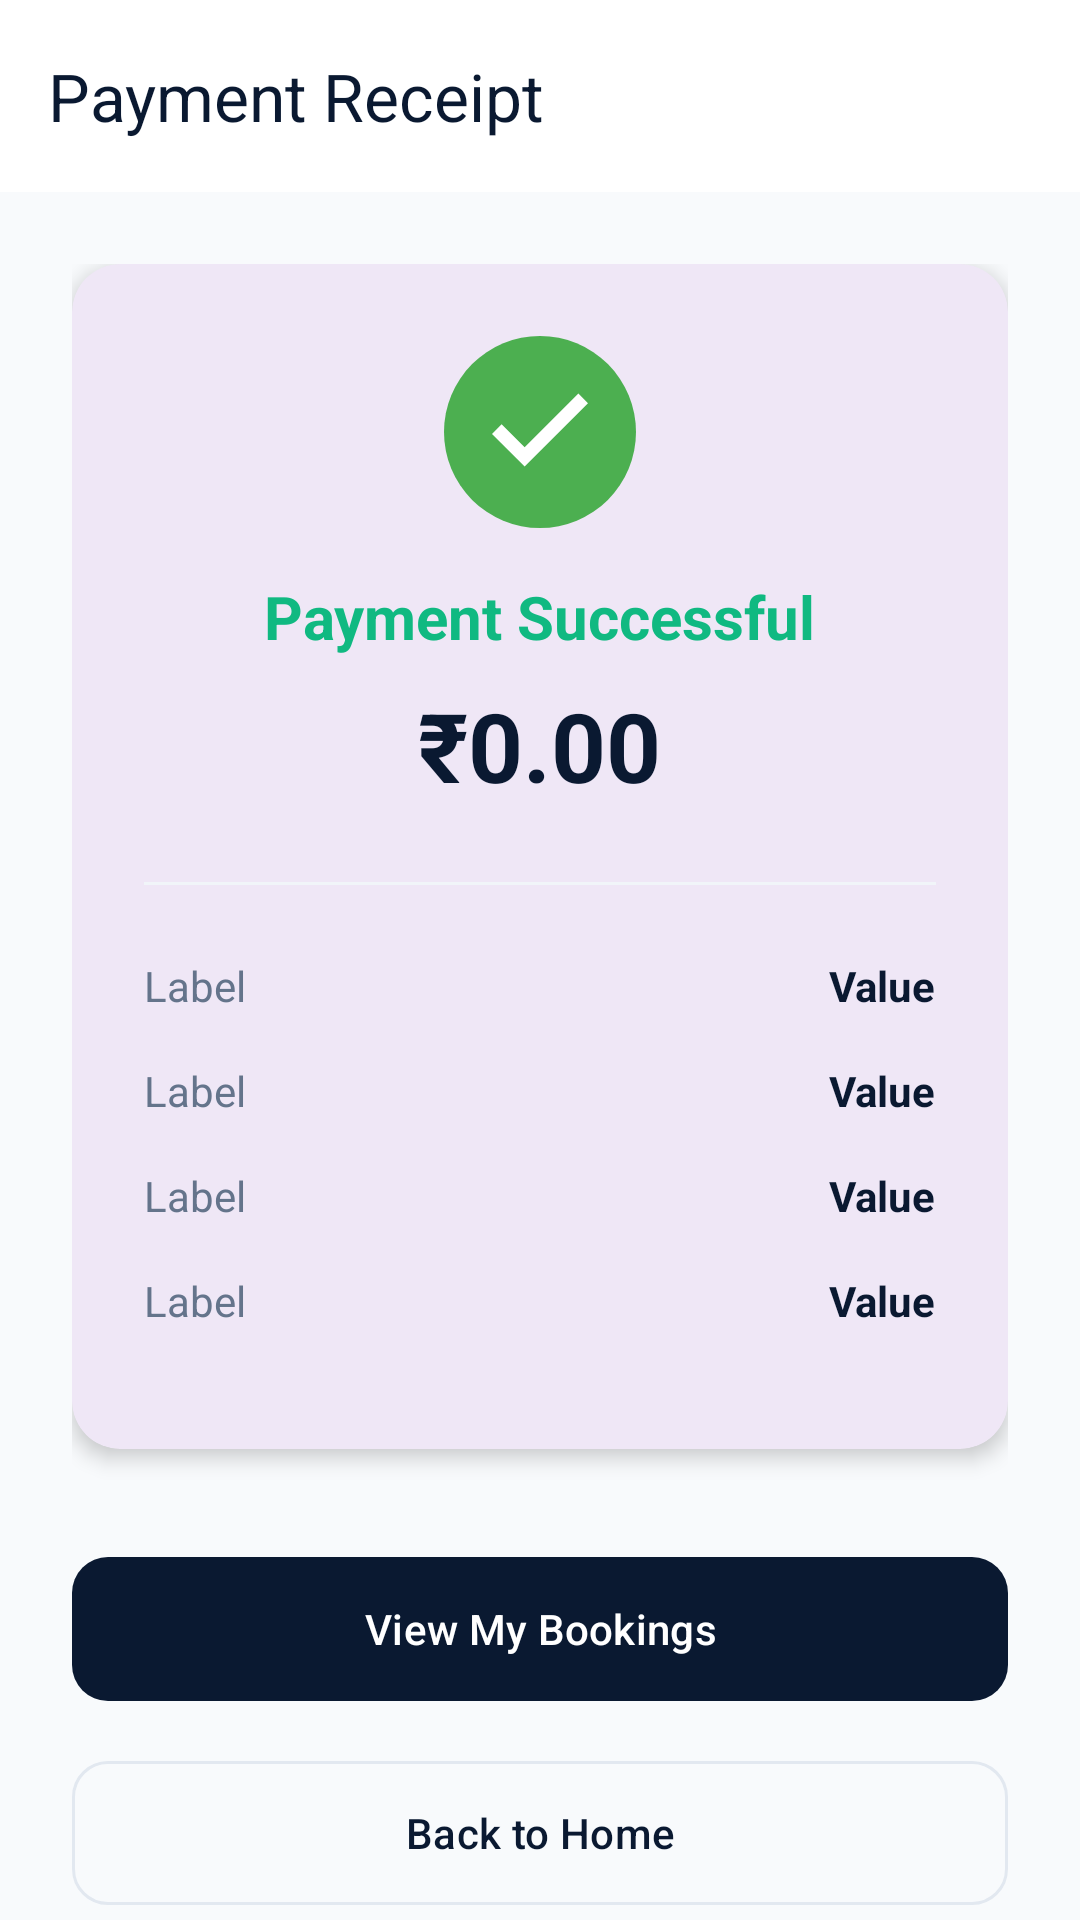

Screen size 1080×1920. Icon name, then its box in pixels as bbox=(x1, y1, x2, y2):
success check: bbox=(444, 336, 636, 528)
